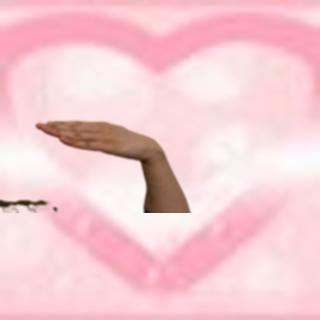WAIT: (33, 113, 161, 163)
